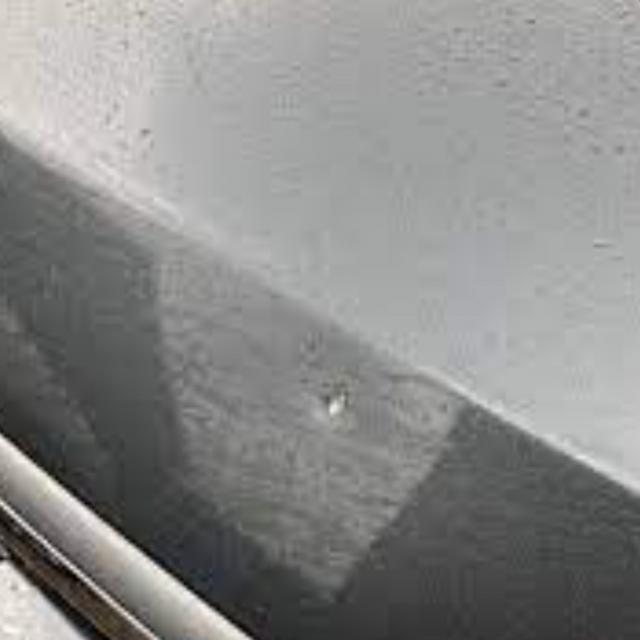dents: (308, 366, 402, 461)
